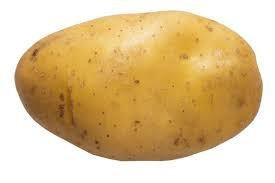apple: (14, 10, 263, 161)
apricot: (14, 10, 263, 161)
banana: (14, 10, 263, 161)
cat: (14, 10, 264, 161)
cherry: (14, 10, 263, 161)
grapes: (14, 10, 263, 161)
kiwi: (14, 10, 263, 161)
melon: (14, 10, 263, 161)
potato: (14, 10, 263, 161)
